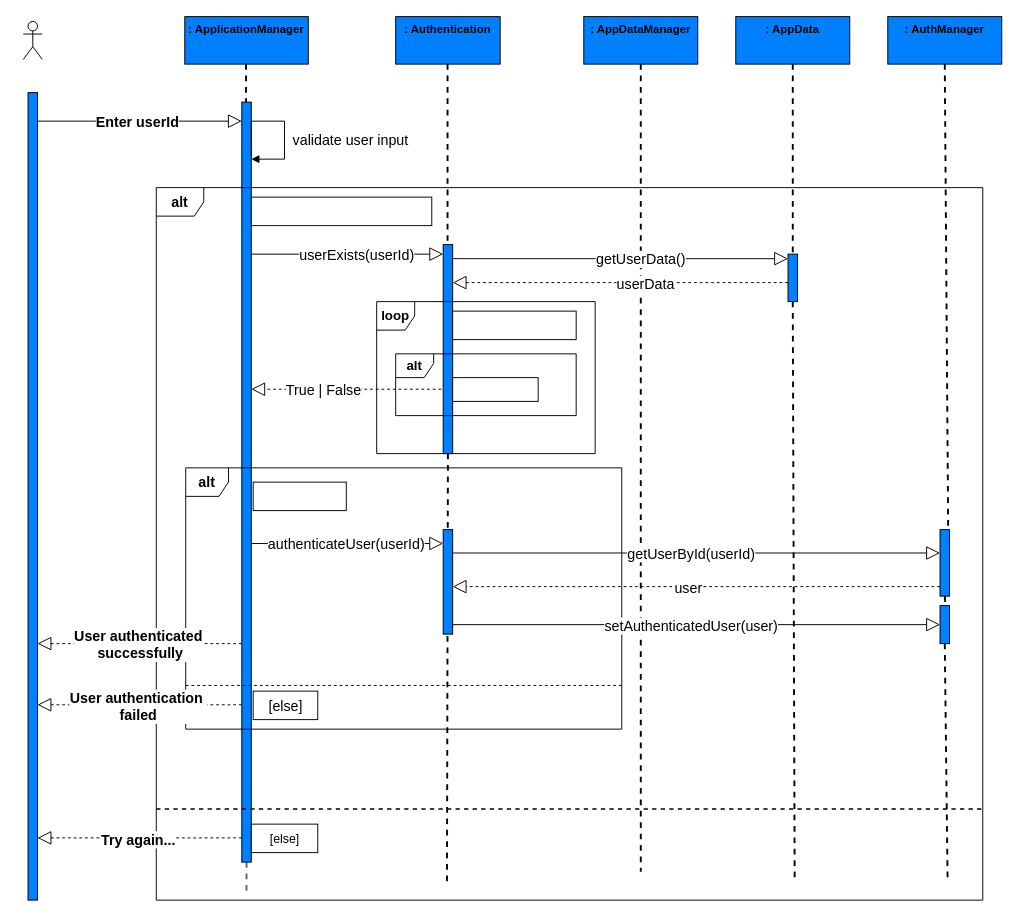
This 1018x917 diagram has some shape labels left out. The shapes that lost their labels are listed below. From the top down, each one's centre as x and y in pixels, then its label:
At (32,39): ": User".
At (341,211): "[valid user input entered]".
At (514,325): "for userId in userData".
At (495,389): "[userId match]".
At (299,496): "[user exists]".
